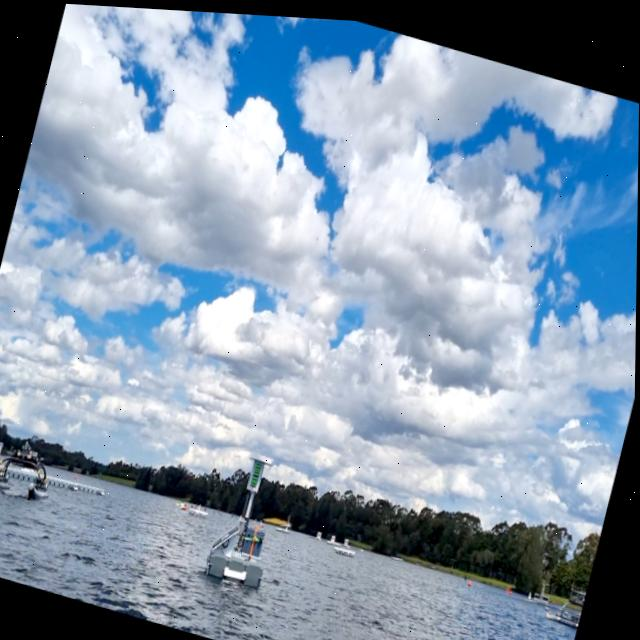led: (249, 456, 265, 487)
